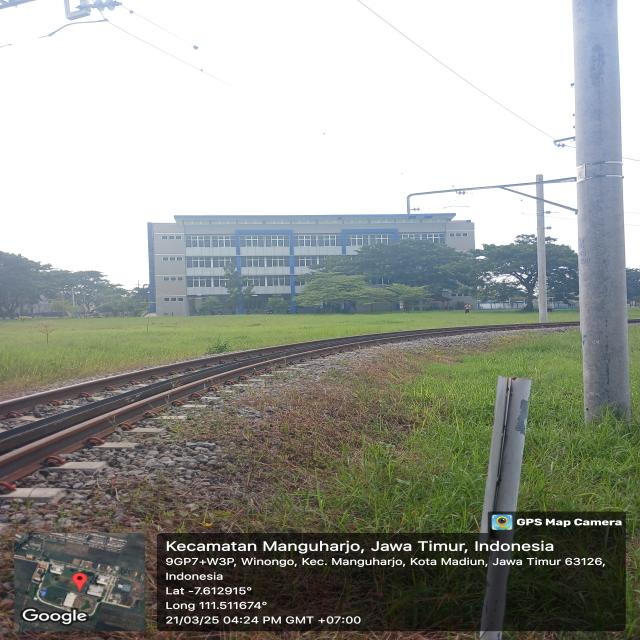rail-detection: (0, 321, 579, 481)
